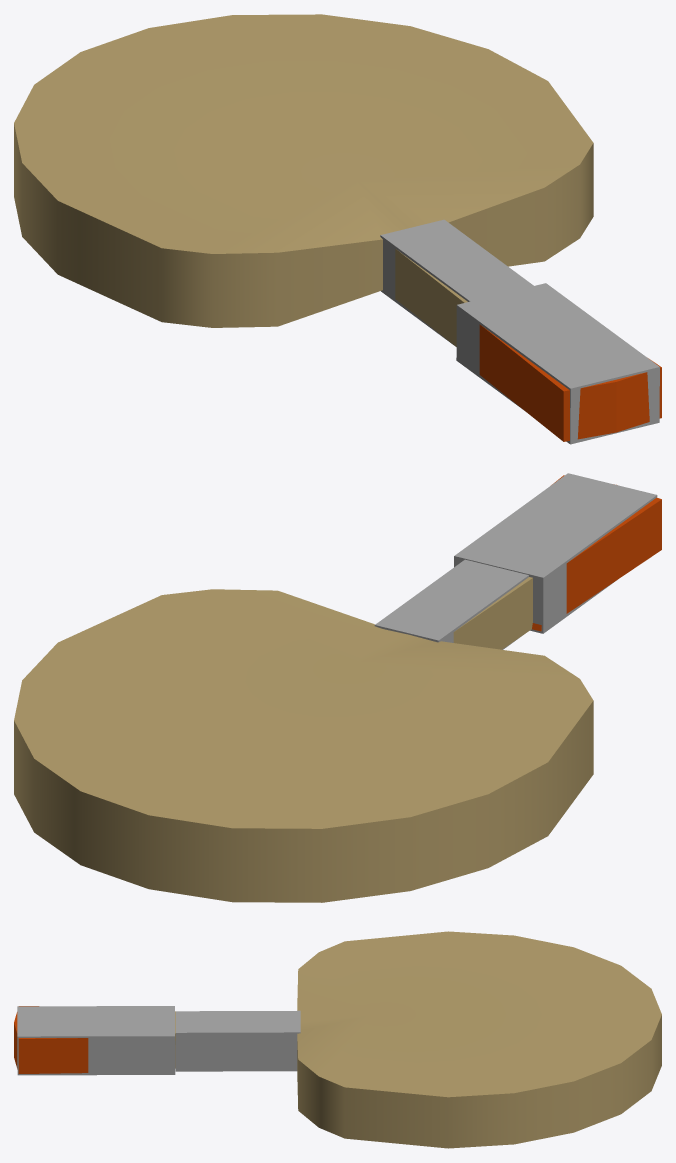
The model's file is PingPongPaddle.fbx.
3 renders of one model, top to bottom at view 1: azimuth 30°, elevation 25°; view 2: azimuth 150°, elevation 25°; view 3: azimuth 270°, elevation 25°, orthographic. The views are drawn at different scales.
Parts seen in each view (by area): view 1: paddleItself, handle2, paddleHandle, handle1; view 2: paddleItself, handle2, paddleHandle, handle1; view 3: paddleItself, handle2, handle1, paddleHandle.
Part boxes in pixels (<box>): paddleItself: <box>14,14,593,327</box>; handle2: <box>456,283,659,444</box>; paddleHandle: <box>395,249,661,441</box>; handle1: <box>380,219,533,346</box>; paddleItself: <box>14,589,593,902</box>; handle2: <box>454,473,657,633</box>; paddleHandle: <box>453,475,661,649</box>; handle1: <box>374,559,528,649</box>; paddleItself: <box>297,931,661,1148</box>; handle2: <box>17,1006,175,1075</box>; handle1: <box>175,1010,300,1071</box>; paddleHandle: <box>14,1006,175,1073</box>.
Size of the model in its own units: 2.83 by 0.4076 by 4.67.
